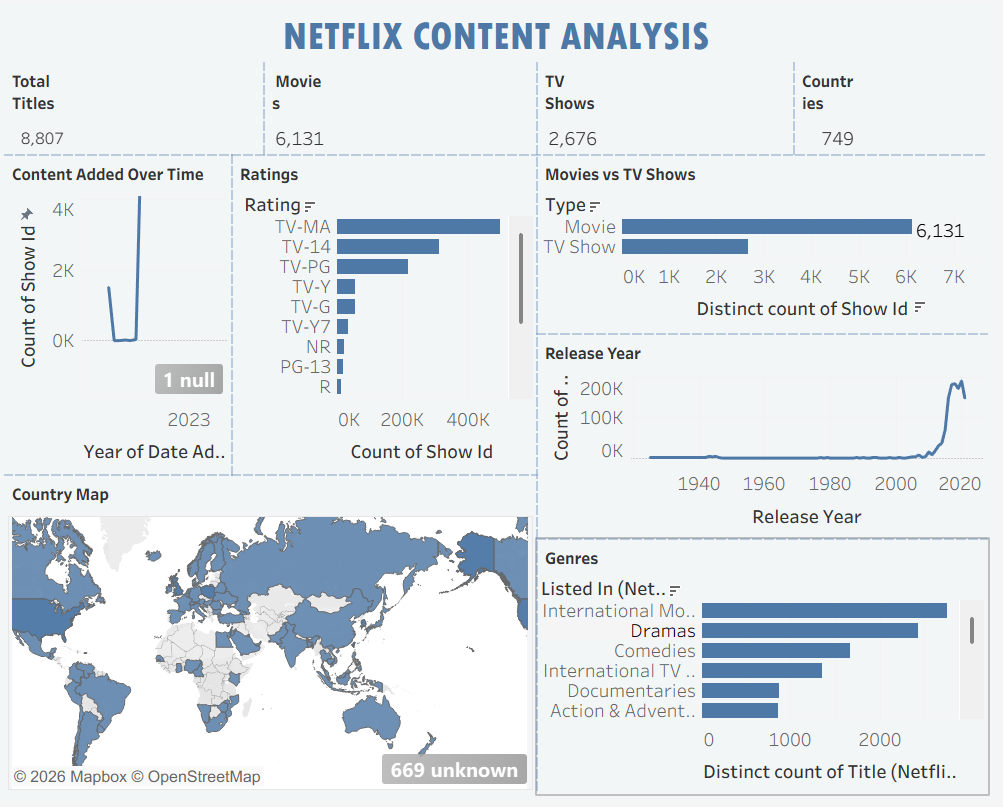

What the dashboard file says about the page in this screenshot:
{"tool":"tableau","page":{"name":"Dashboard 1","canvas":[1000,800],"ordinal":0},"visuals":[{"type":"title","box":[8,8,984,52]},{"type":"worksheet","title":"Total titles","mark":"Automatic","box":[8,60,260,93.3]},{"type":"worksheet","title":"Movies","mark":"Automatic","box":[268,60,273,93.3]},{"type":"worksheet","title":"TV shows","mark":"Automatic","box":[541,60,257,93.3]},{"type":"worksheet","title":"Countrie","mark":"Automatic","box":[798,60,194,93.3]},{"type":"worksheet","title":"Content Added Over Time","mark":"Automatic","rows":["show_id"],"cols":["date_added"],"box":[8,153.3,228,319.3]},{"type":"worksheet","title":"Ratings","mark":"Automatic","rows":["rating"],"cols":["show_id"],"box":[236,153.3,305,319.3]},{"type":"worksheet","title":"Movies vs TV Shows","mark":"Automatic","rows":["type"],"cols":["show_id"],"box":[541,153.3,451,178.3]},{"type":"worksheet","title":"Release Year","mark":"Automatic","rows":["show_id"],"cols":["release_year"],"box":[541,331.7,451,205.4]},{"type":"worksheet","title":"Country Map","mark":"Multipolygon","box":[8,472.6,533,319.4]},{"type":"worksheet","title":"Genres","mark":"Automatic","rows":["listed_in (netflix_genre_analysis (1).csv)"],"cols":["title (netflix_genre_analysis (1).csv)"],"box":[541,537.1,451,254.9]}]}

Visuals, with their boxes in screenshot pixels (x1, y1, x2, y2), scaled from the page's 1000x800 canvas onto the 1003x807 screenshot:
title: x1=8, y1=8, x2=995, y2=61
"Total titles" worksheet: x1=8, y1=61, x2=269, y2=155
"Movies" worksheet: x1=269, y1=61, x2=543, y2=155
"TV shows" worksheet: x1=543, y1=61, x2=800, y2=155
"Countrie" worksheet: x1=800, y1=61, x2=995, y2=155
"Content Added Over Time" worksheet: x1=8, y1=155, x2=237, y2=477
"Ratings" worksheet: x1=237, y1=155, x2=543, y2=477
"Movies vs TV Shows" worksheet: x1=543, y1=155, x2=995, y2=335
"Release Year" worksheet: x1=543, y1=335, x2=995, y2=542
"Country Map" worksheet (Multipolygon marks): x1=8, y1=477, x2=543, y2=799
"Genres" worksheet: x1=543, y1=542, x2=995, y2=799
